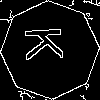K: (25, 25, 73, 62)
